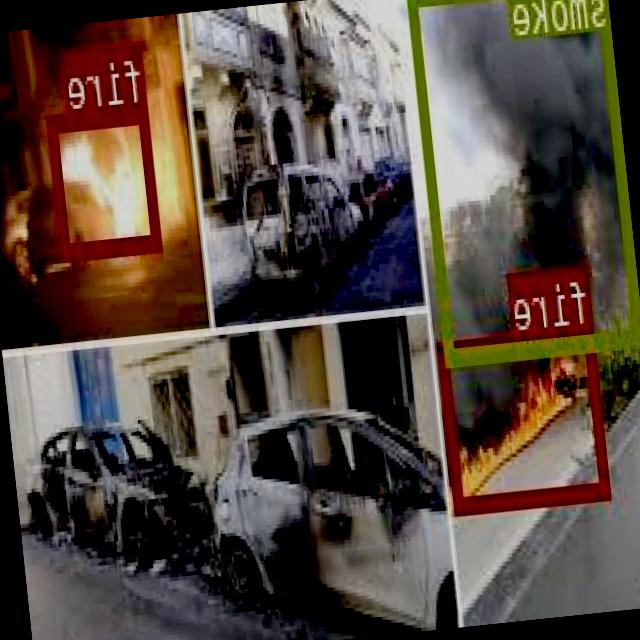fire: (438, 325, 612, 511), (47, 102, 164, 258)
smoke: (410, 0, 640, 363)
